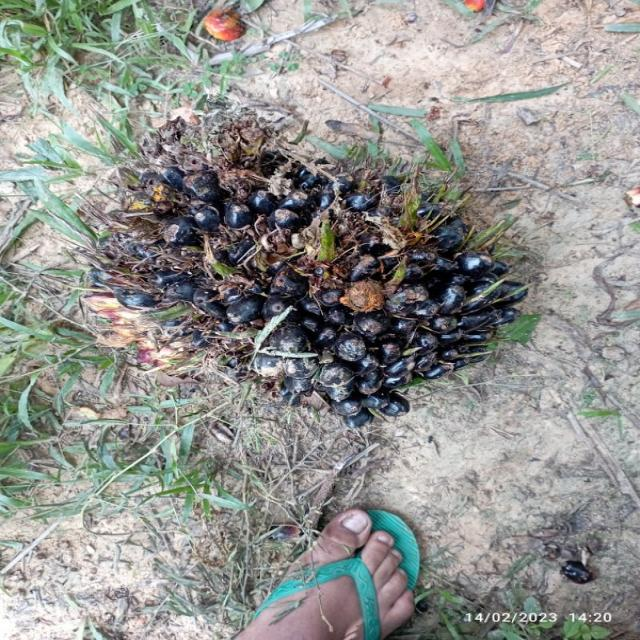fraksi 00: (93, 136, 532, 424)
